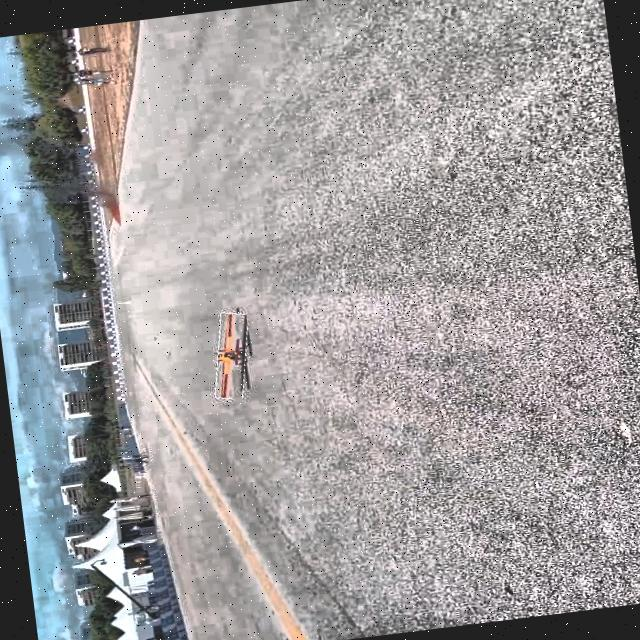iha: (201, 336, 260, 371)
